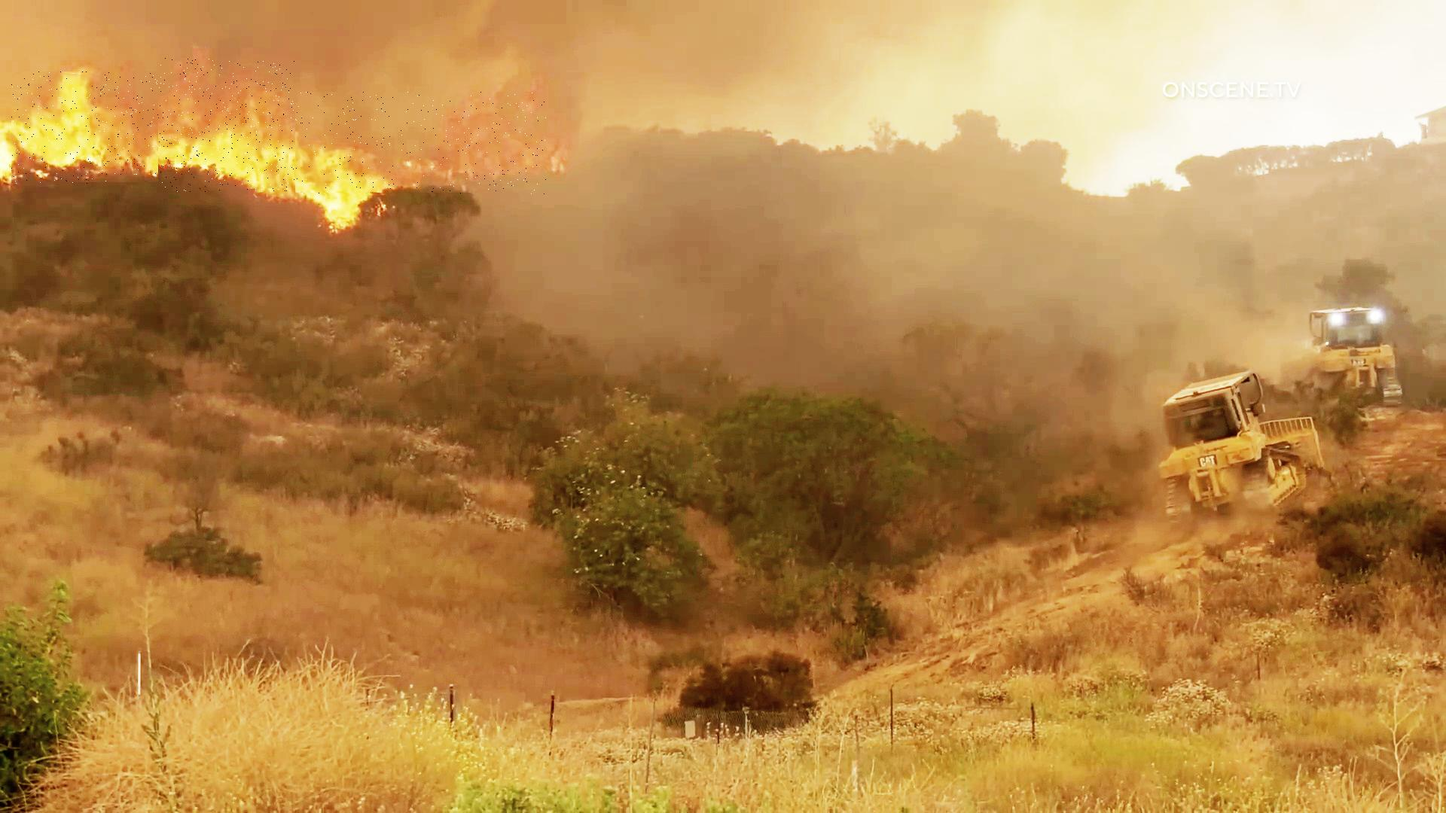fire: (296, 92, 547, 195), (160, 58, 295, 192), (12, 72, 165, 184)
